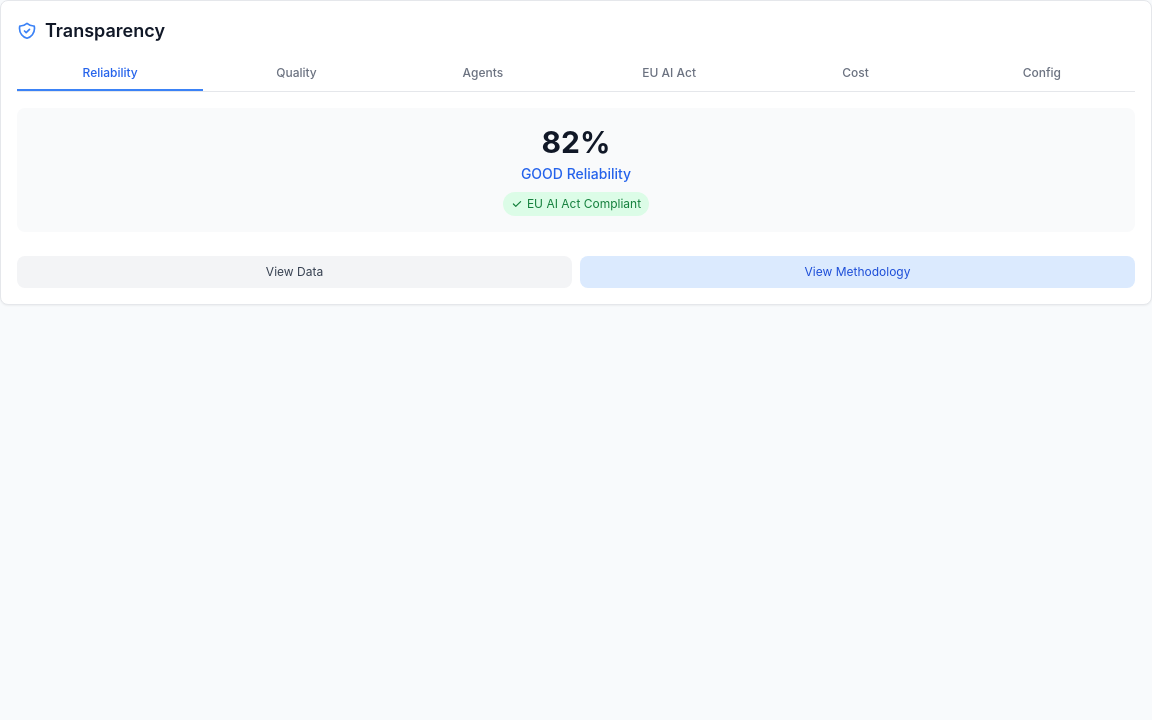
Test: DataModal -- dataset info rendering › shows only domain info when no dataset is loaded
The image size is (1152, 720).
Step 1. Click the button "View Data" → x=294, y=272, box x1=17 y1=256 x2=572 y2=288
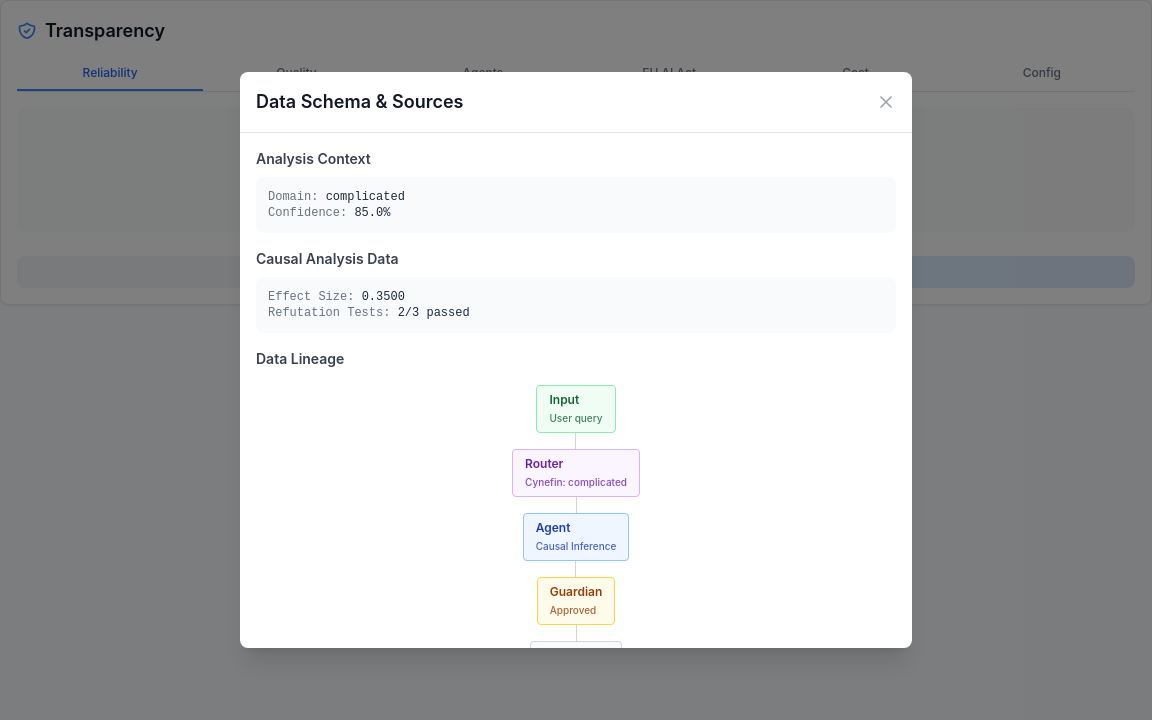
Now the heading "Data Schema & Sources" is shown, box x1=256 y1=88 x2=464 y2=116
Now the heading "Analysis Context" is shown, box x1=256 y1=150 x2=371 y2=167
